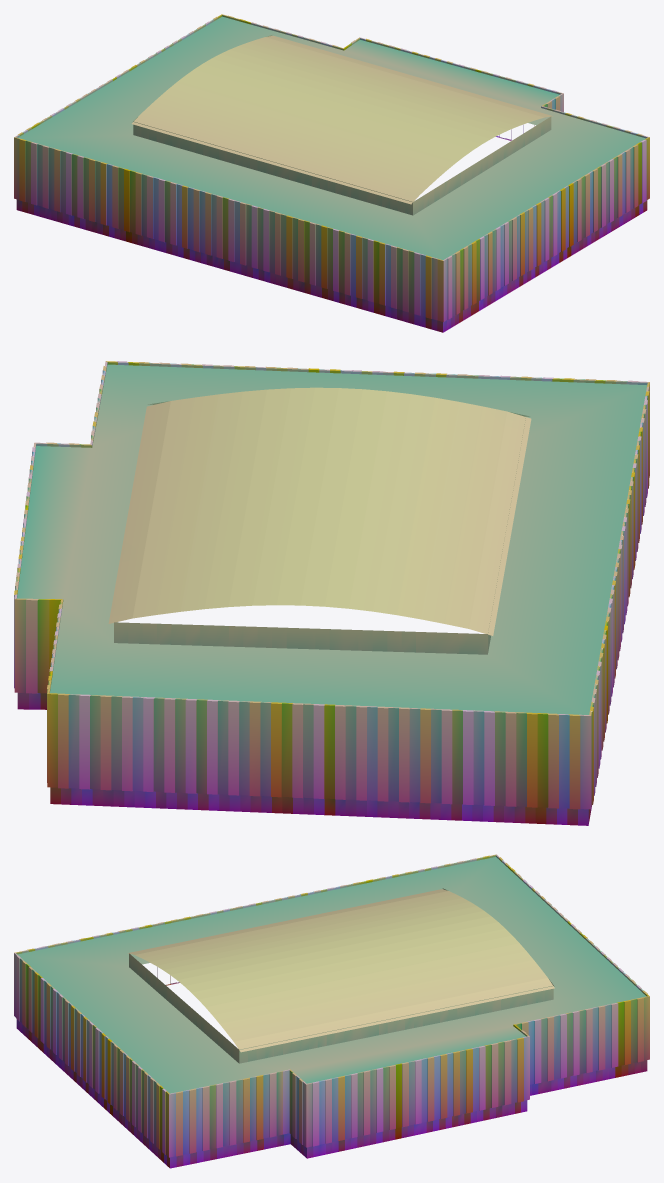
The model's file is arena.glb.
3 views of the same model, one above another, from view 1: azimuth 30°, elevation 25°; view 2: azimuth 150°, elevation 25°; view 3: azimuth 270°, elevation 25° (orthographic). The views are drawn at different scales.
Parts seen in each view (by area): view 1: arena-shell; view 2: arena-shell; view 3: arena-shell.
Boxes of the visible parts, x1,y1,x2,y2 form: arena-shell: (14,14,649,332); arena-shell: (14,361,649,825); arena-shell: (14,854,649,1168).
Bounding box in the file's own units: 236 × 47 × 264.
